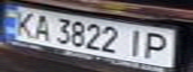2: (100, 24, 124, 56), (84, 20, 103, 53)
3: (51, 16, 72, 46)
8: (66, 18, 87, 48)
A: (27, 11, 57, 42)
I: (121, 27, 148, 58)
K: (6, 8, 42, 38)
P: (139, 29, 175, 61)
